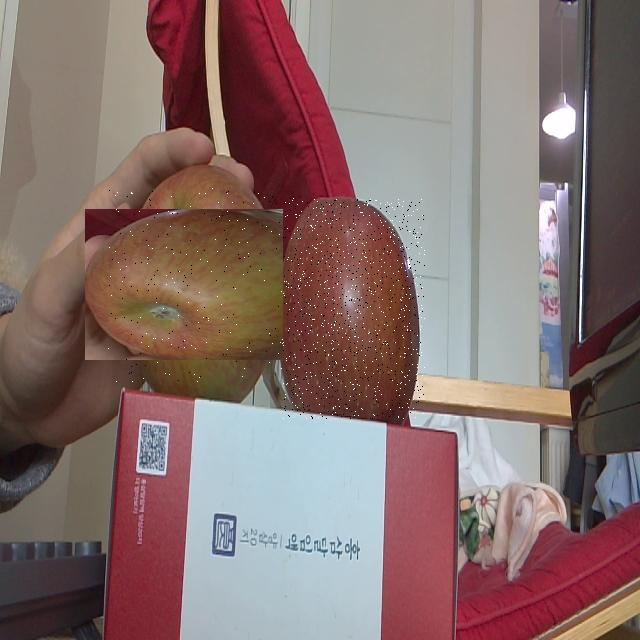apple: (107, 187, 301, 382), (283, 199, 425, 419)
